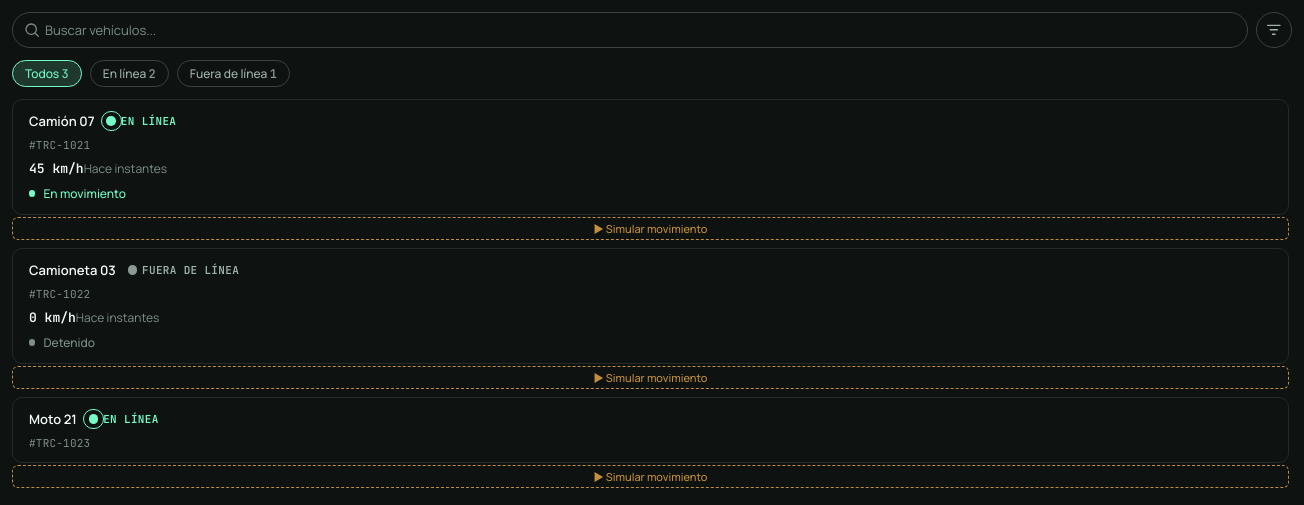
Scenario: <DeviceListPanel /> › el botón de limpiar búsqueda solo aparece con texto escrito, y la vacía
The width and height of the screenshot is (1304, 505).
Type "camion" into the search field labelled "Buscar vehículos" at (630, 30), box [12,12,1248,48]
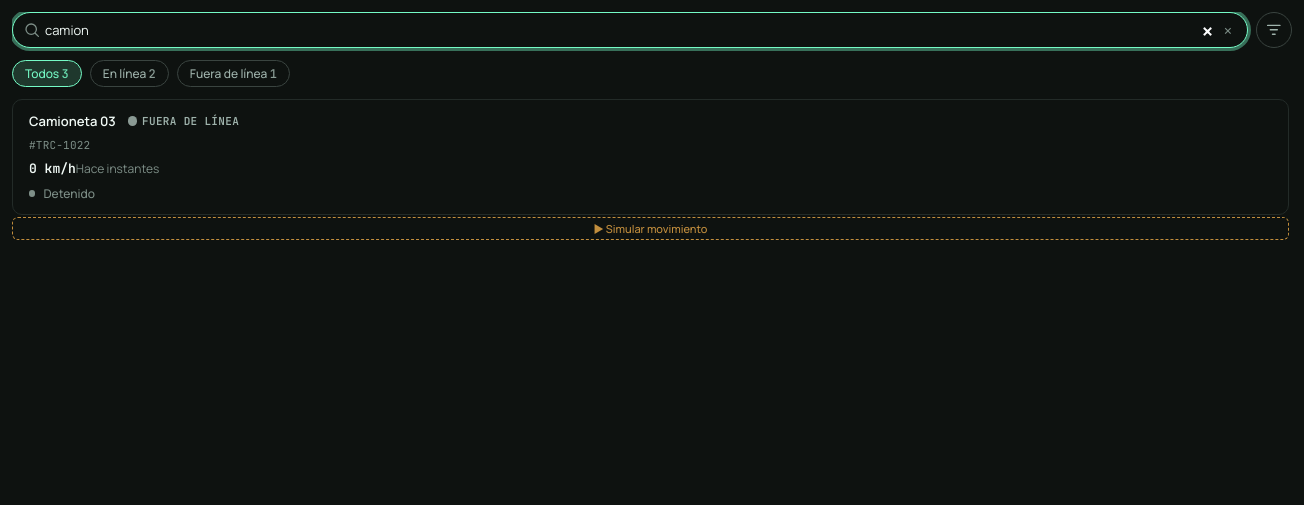
Now the button named "Limpiar búsqueda" is shown
Click the button named "Limpiar búsqueda" at (1228, 30), box [1216,18,1240,42]
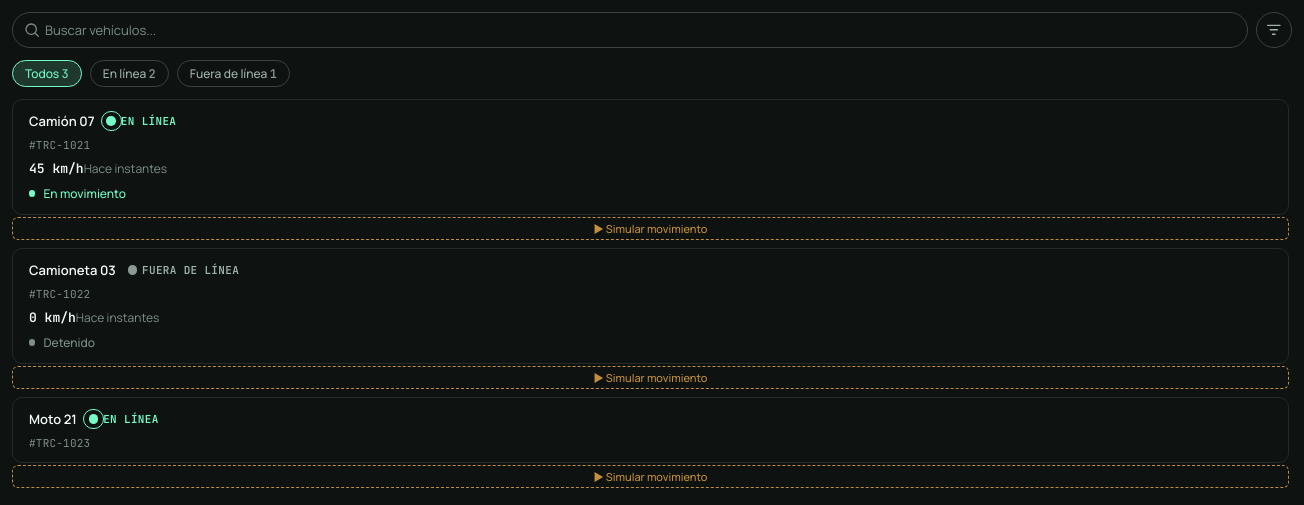
Now the search field labelled "Buscar vehículos" is empty, box [12,12,1248,48]
Now the text "Camión 07" is shown, box [29,112,94,130]
